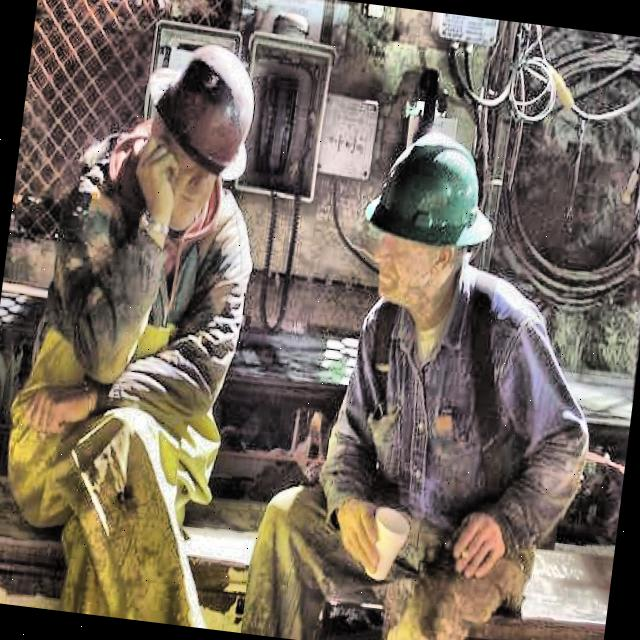helmet: (338, 106, 509, 328), (127, 27, 276, 232)
